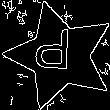P_S: (40, 30, 80, 81)
